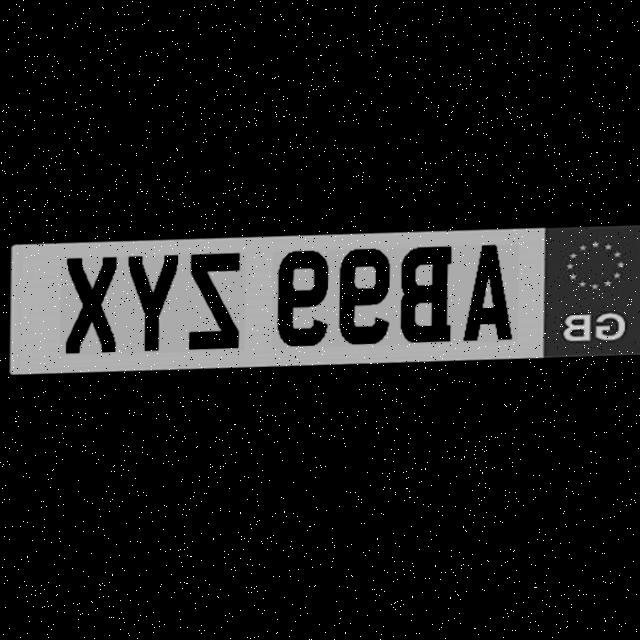license-plates: (7, 225, 640, 374)
